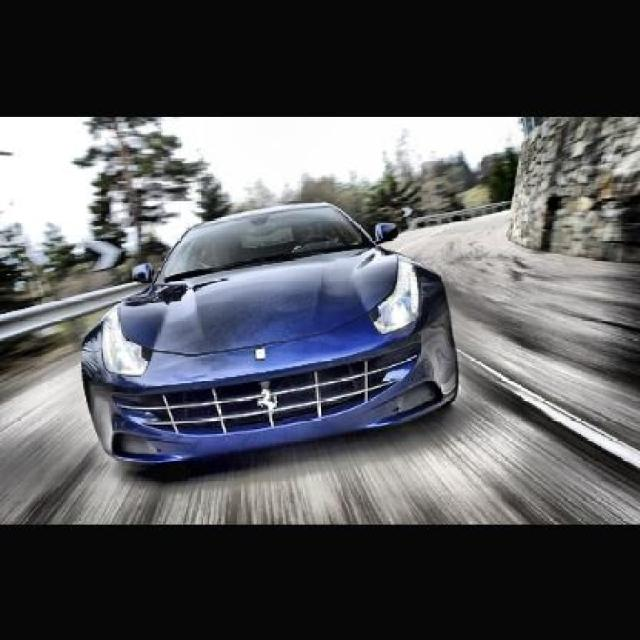blue: (82, 202, 460, 472)
